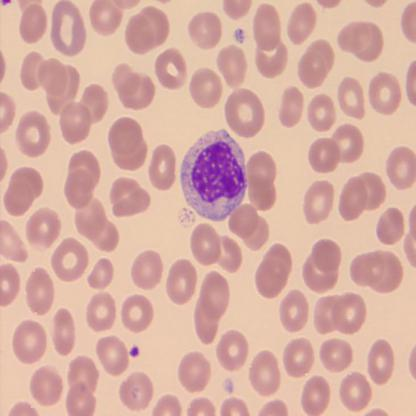Metamyelocyte: (180, 127, 250, 225)
